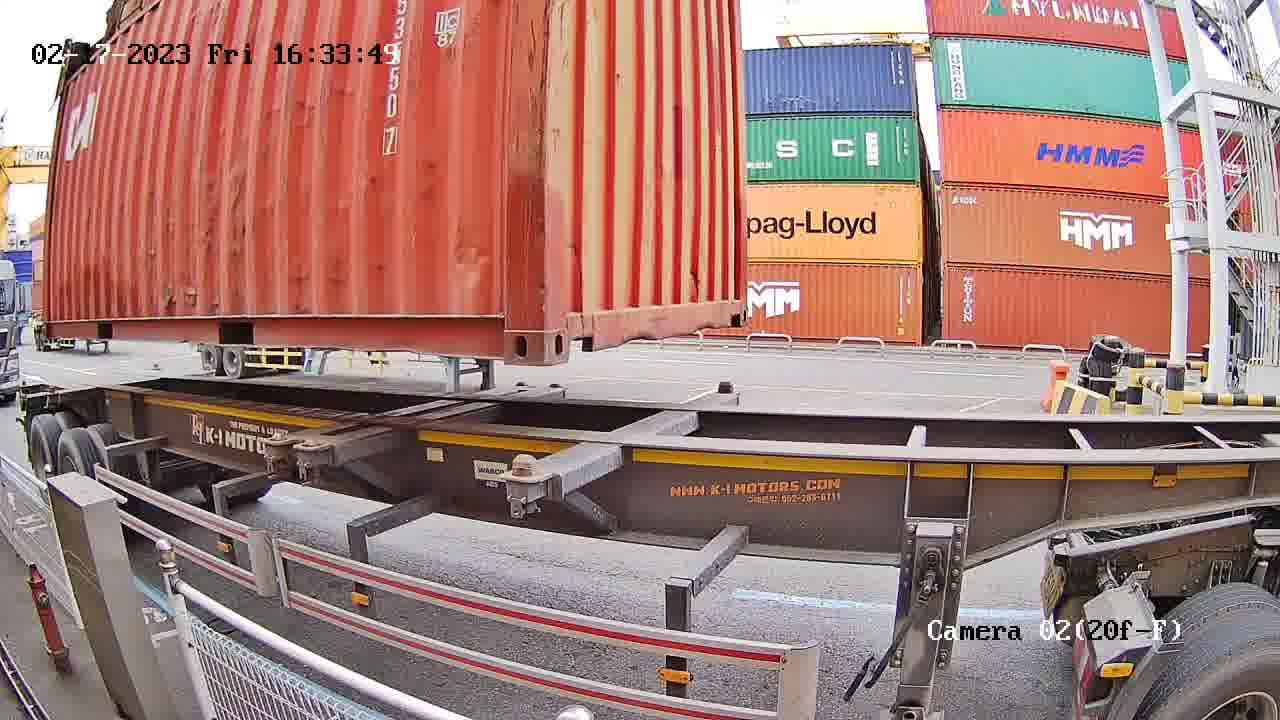Chassis: (503, 390, 744, 501)
Cone: (504, 453, 544, 520), (712, 377, 739, 399)
Hole_L: (545, 284, 603, 366)
Hole_R: (465, 286, 546, 364), (723, 279, 750, 326)
Tire: (31, 419, 57, 504), (57, 432, 95, 478)
